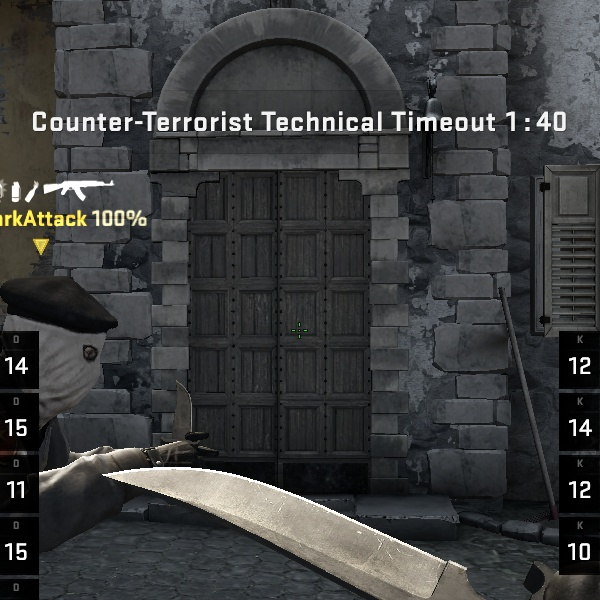t_body: (0, 253, 145, 592)
